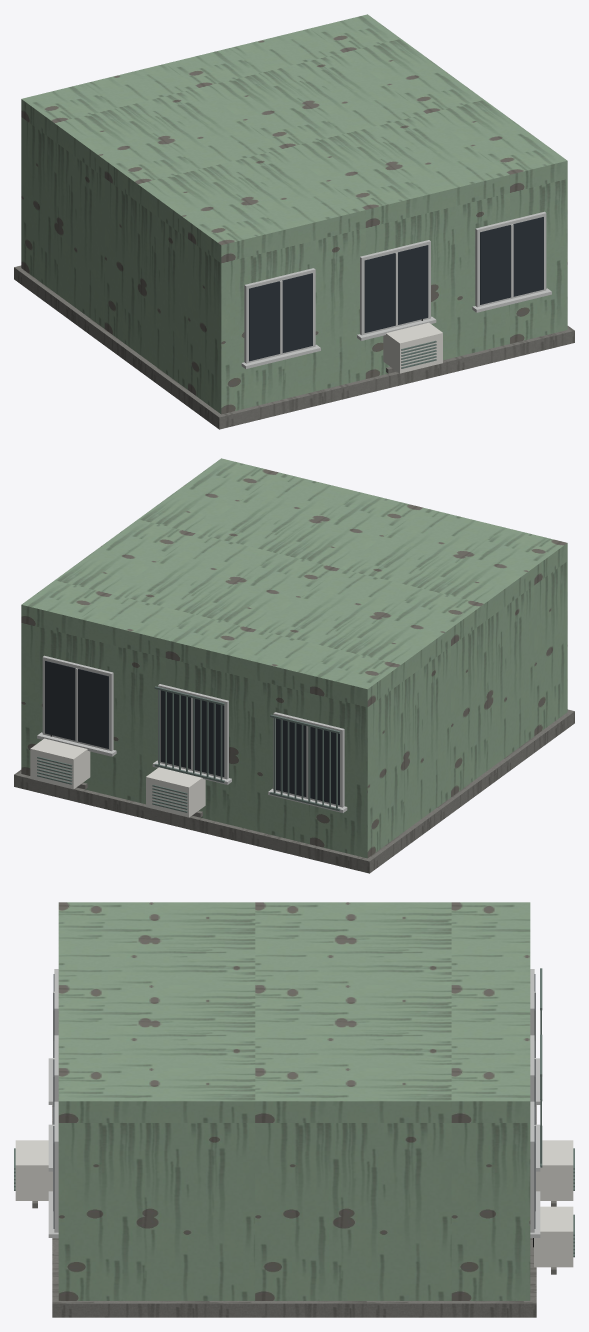
The model's file is floor_green.glb.
3 renders of one model, top to bottom at view 1: azimuth 30°, elevation 25°; view 2: azimuth 150°, elevation 25°; view 3: azimuth 270°, elevation 25°, orthographic. The views are drawn at different scales.
Parts seen in each view (by area): view 1: floor_green; view 2: floor_green; view 3: floor_green.
Part boxes in pixels (x1,y1,x2,y2): floor_green: (14, 14, 574, 429); floor_green: (14, 458, 574, 873); floor_green: (14, 902, 574, 1317).
Bounding box in the file's own units: 6.16 × 3 × 7.14.
8 materials, 3 textured.
